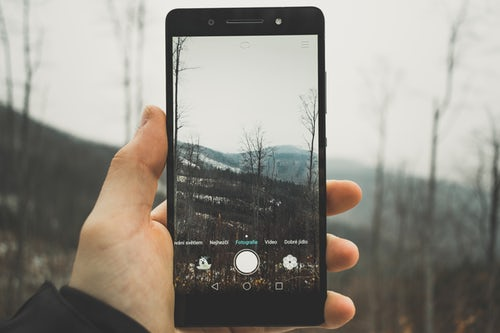phone: (161, 5, 330, 330)
